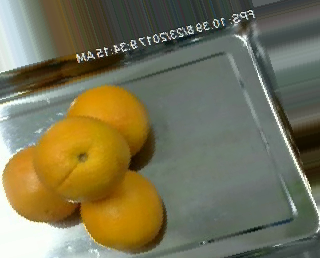Orange: (33, 117, 130, 201), (80, 169, 163, 249), (1, 143, 82, 221), (67, 84, 149, 160)
